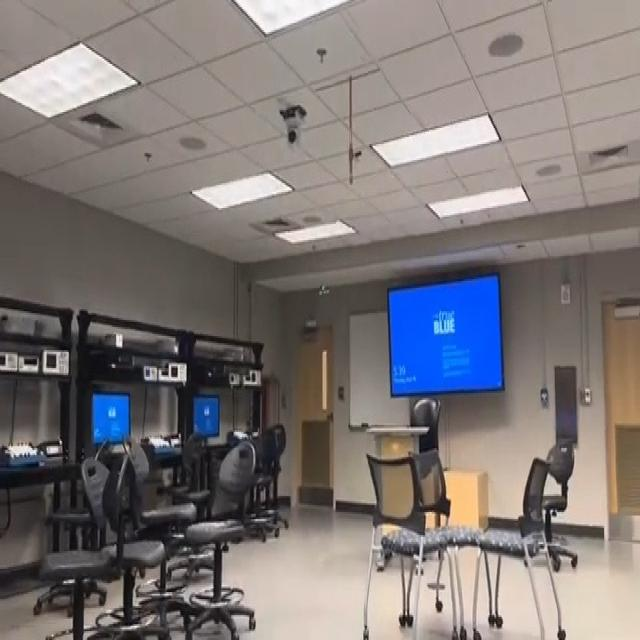drone: (311, 267, 333, 308)
